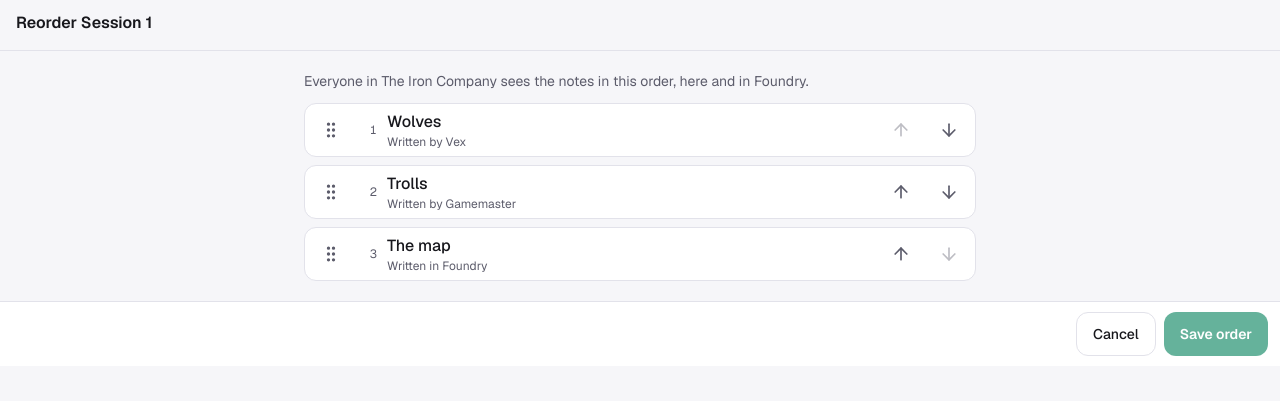
it: components/notes/reorder-pane › says why the order was refused, changed, keeping the pane and the order made
Click the button named "Move Trolls up": {"x": 901, "y": 192} x1=879 y1=170 x2=923 y2=214
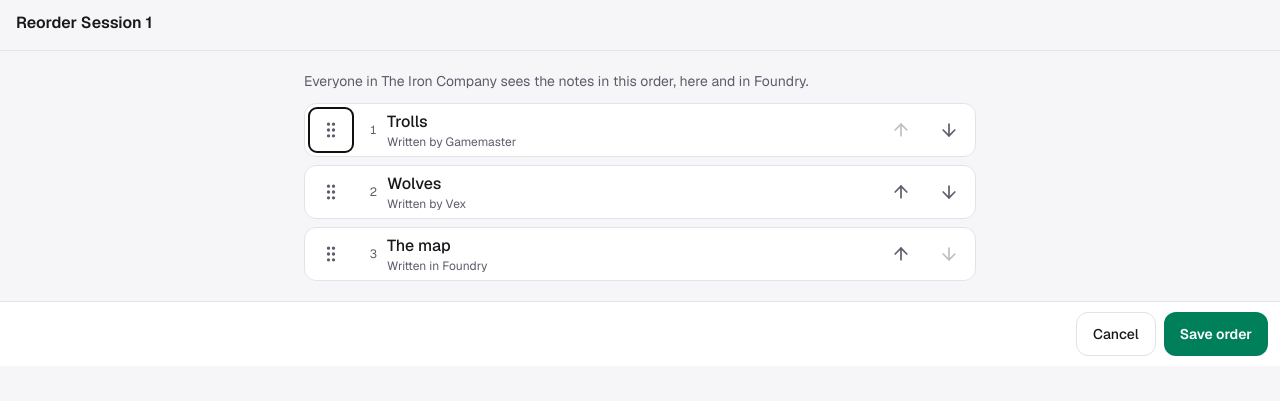
Click the button "Save order": {"x": 1216, "y": 334} x1=1164 y1=312 x2=1268 y2=356
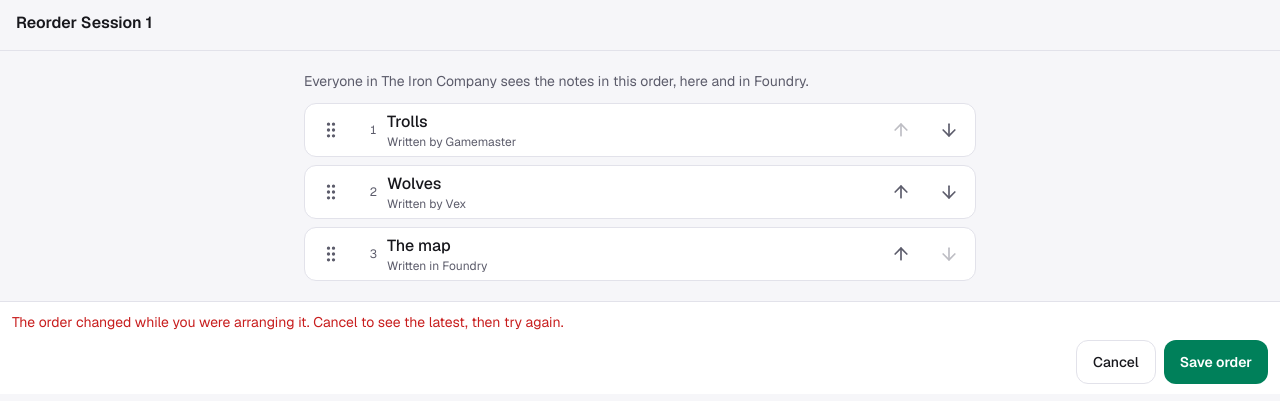
Check: the button "Save order" is enabled
Check: the message shows "The order changed while you were arranging it. Cancel to see the latest, then try again.", box x1=12 y1=313 x2=564 y2=331
Click the button "Save order": {"x": 1216, "y": 362} x1=1164 y1=340 x2=1268 y2=384
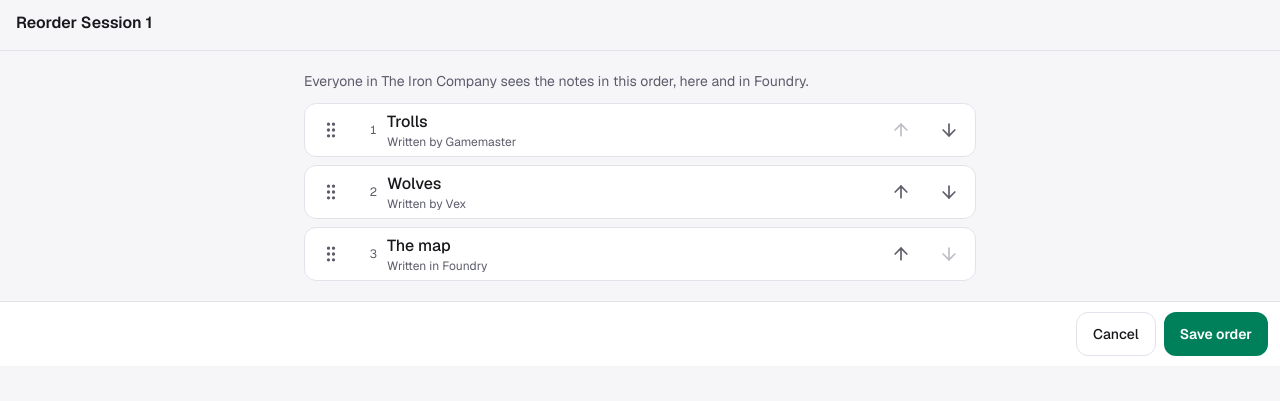
Check: the message is gone
